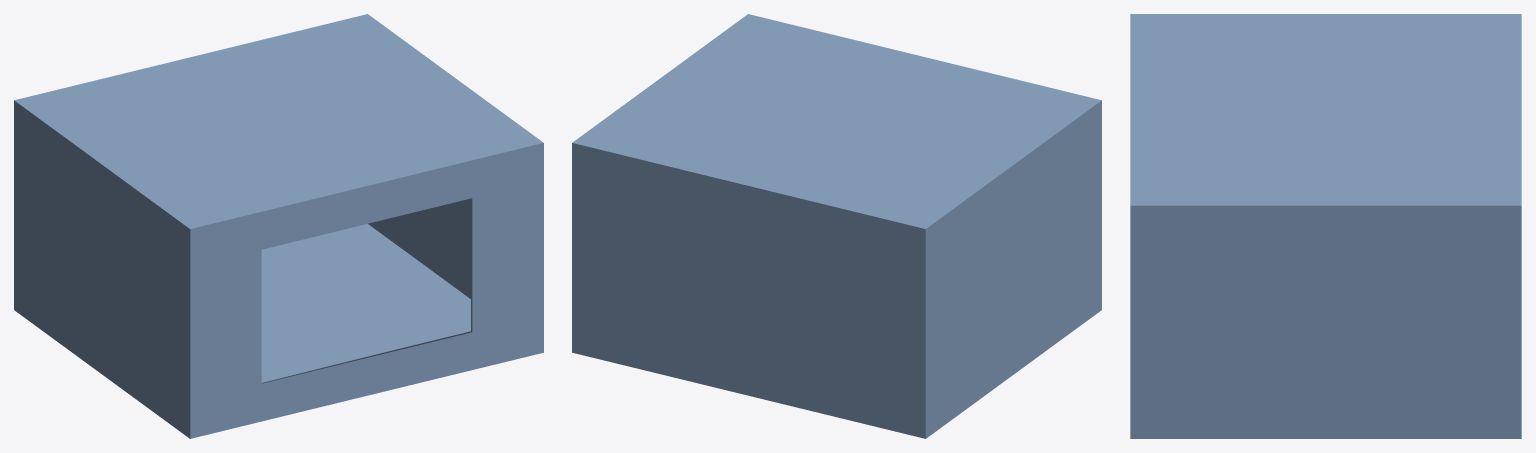
File: panelframe.obj
3 views of the same model, side by side, from view 1: azimuth 30°, elevation 25°; view 2: azimuth 150°, elevation 25°; view 3: azimuth 270°, elevation 25° (orthographic). The views are drawn at different scales.
Parts seen in each view (by area): view 1: cutout; view 2: cutout; view 3: cutout.
Boxes of the visible parts, x1,y1,x2,y2 form: cutout: [14, 14, 543, 438]; cutout: [572, 14, 1101, 438]; cutout: [1130, 14, 1521, 438].
Size of the model in its own units: 15.08 by 8.55 by 13.
1 material, 1 textured.
